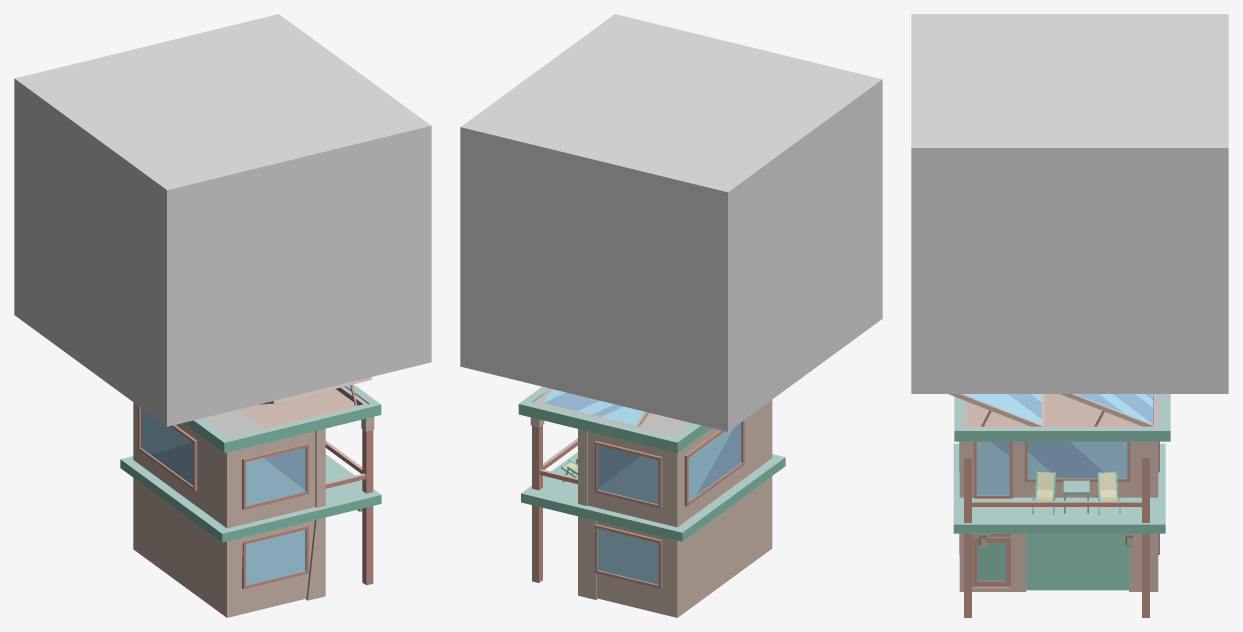
The picture shows the model from 3 angles, left to right: view 1: azimuth 30°, elevation 25°; view 2: azimuth 150°, elevation 25°; view 3: azimuth 270°, elevation 25°; orthographic projection. The views are drawn at different scales.
Parts seen in each view (by area): view 1: Cube, House; view 2: Cube, House; view 3: Cube, House.
Boxes of the visible parts, bbox=[...] form: Cube: bbox=[14, 14, 431, 426]; House: bbox=[120, 377, 381, 617]; Cube: bbox=[460, 14, 882, 431]; House: bbox=[518, 386, 785, 617]; Cube: bbox=[911, 14, 1228, 393]; House: bbox=[949, 394, 1170, 617].
Bounding box in the file's own units: 469 × 794 × 469.
